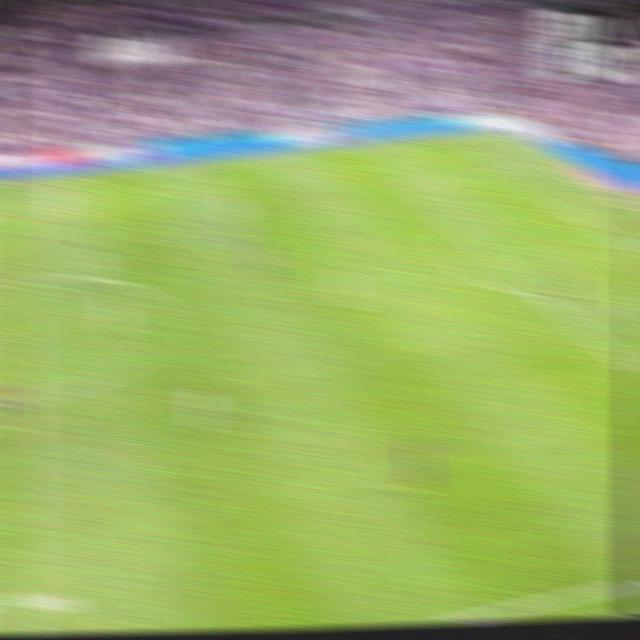bigarea_top_inner: (397, 176, 417, 190)
bigarea_top_outter: (538, 155, 561, 170)
bottom_arc_area_intersection: (528, 285, 551, 303)
corner: (480, 126, 502, 137)
halfcircle_bottom: (15, 383, 42, 412)
halfcircle_top: (14, 267, 40, 291)
midline_top_intersection: (16, 174, 37, 191)
smallarea_top_inner: (553, 198, 572, 210)
smallarea_top_outter: (600, 189, 621, 203)
top_arc_area_intersection: (447, 217, 469, 236)
